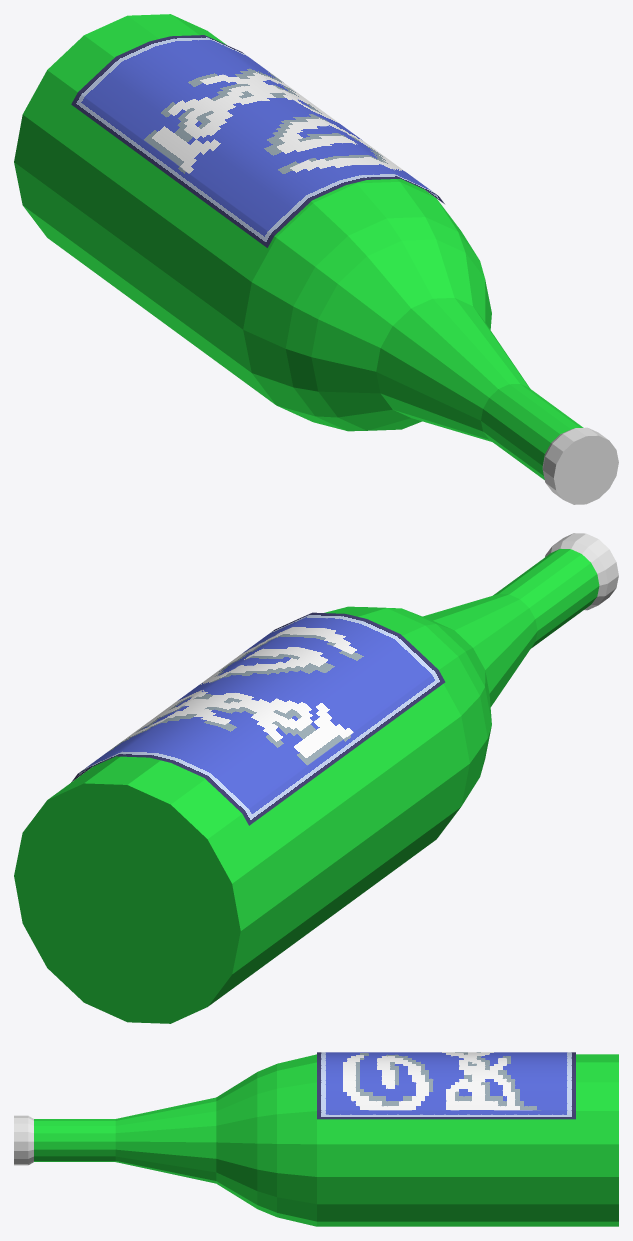
File: obj_glassBottle2.glb
The picture shows the model from 3 angles, top to bottom: view 1: azimuth 30°, elevation 25°; view 2: azimuth 150°, elevation 25°; view 3: azimuth 270°, elevation 25°; orthographic projection. The views are drawn at different scales.
Visible parts, largest first — view 1: Circle; view 2: Circle; view 3: Circle.
Boxes of the visible parts, x1,y1,x2,y2 form: Circle: [14, 14, 618, 504]; Circle: [14, 533, 618, 1023]; Circle: [14, 1052, 618, 1226].
Size of the model in its own units: 0.4 by 0.4014 by 1.4.
3 materials, 1 textured.
